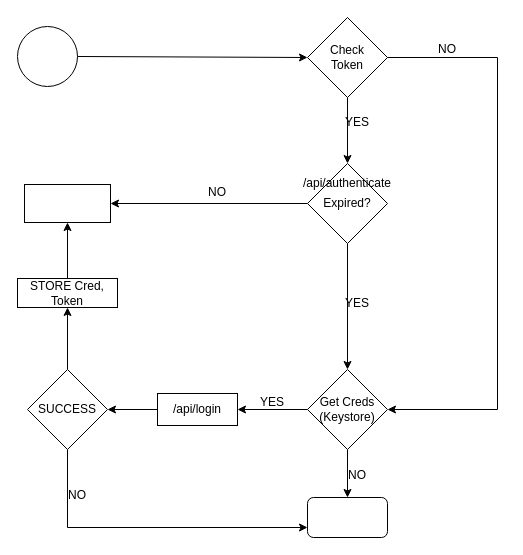
This 523x555 diagram has some shape labels left out. Here are the shapes that lost their labels. From the top down, the centre of each, then its label:
At point (47, 56): "START".
At point (67, 203): "HOME SCRN".
At point (347, 517): "Login Screen".
